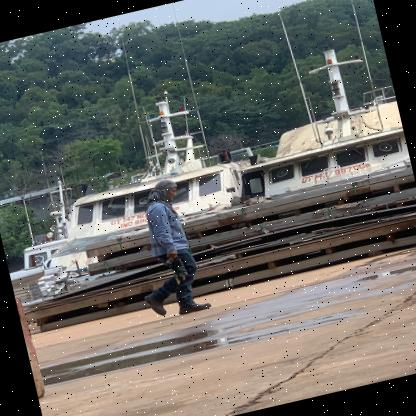bota: (144, 288, 173, 317), (178, 298, 216, 316)
